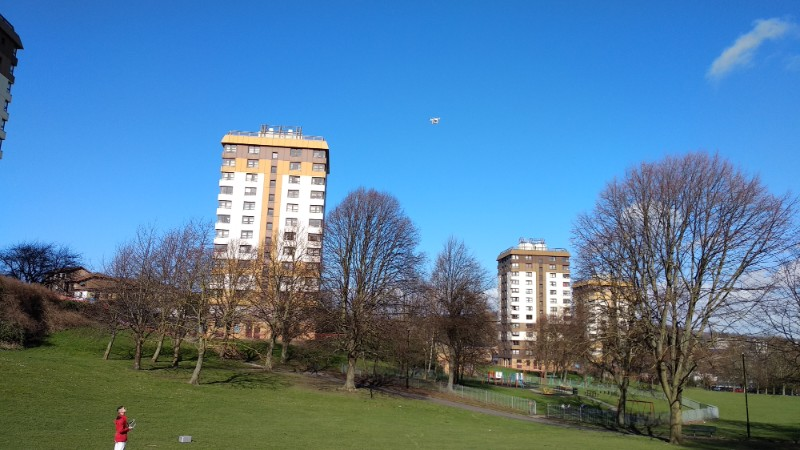drone: (429, 115, 441, 126)
